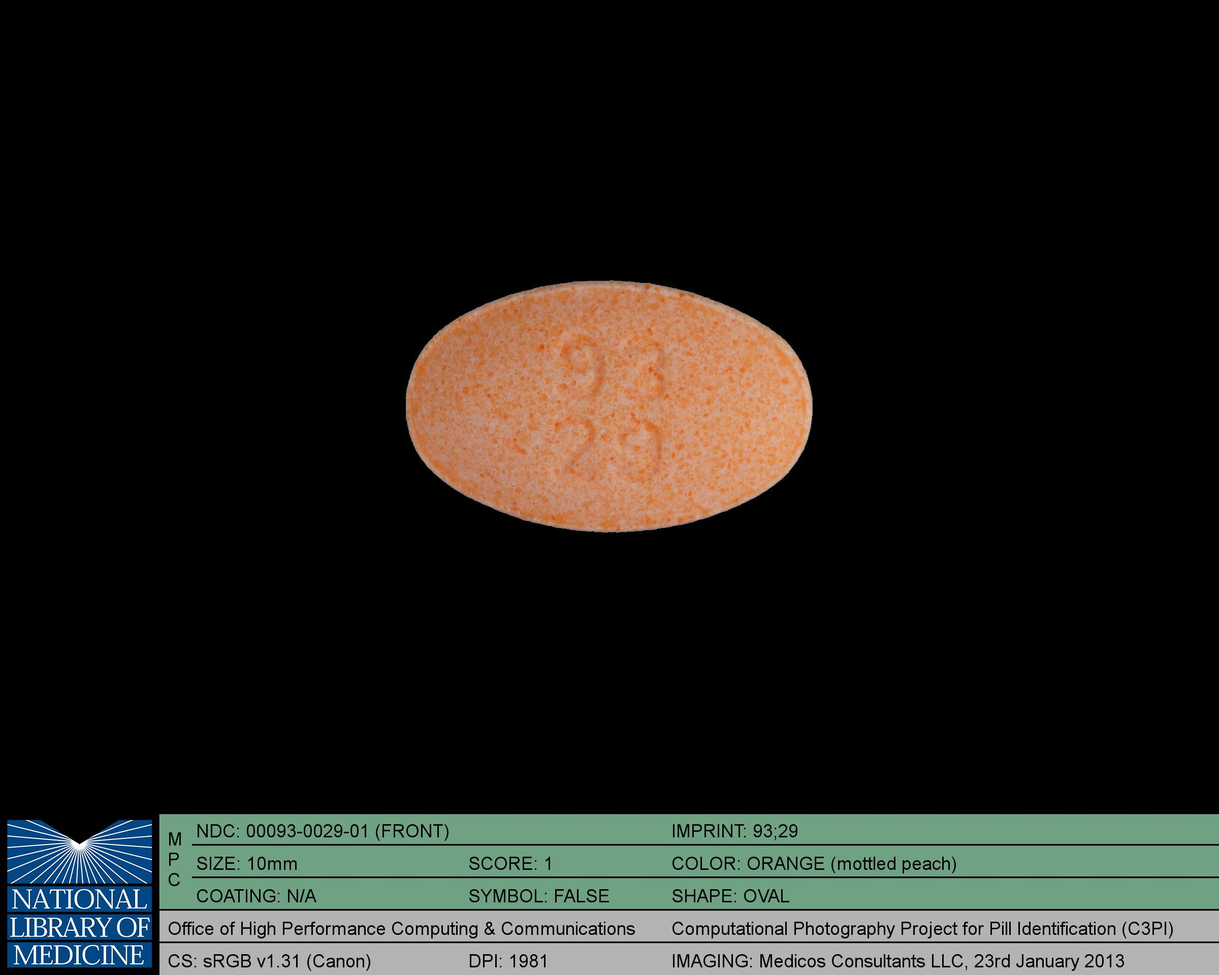Pill: (388, 264, 830, 547)
